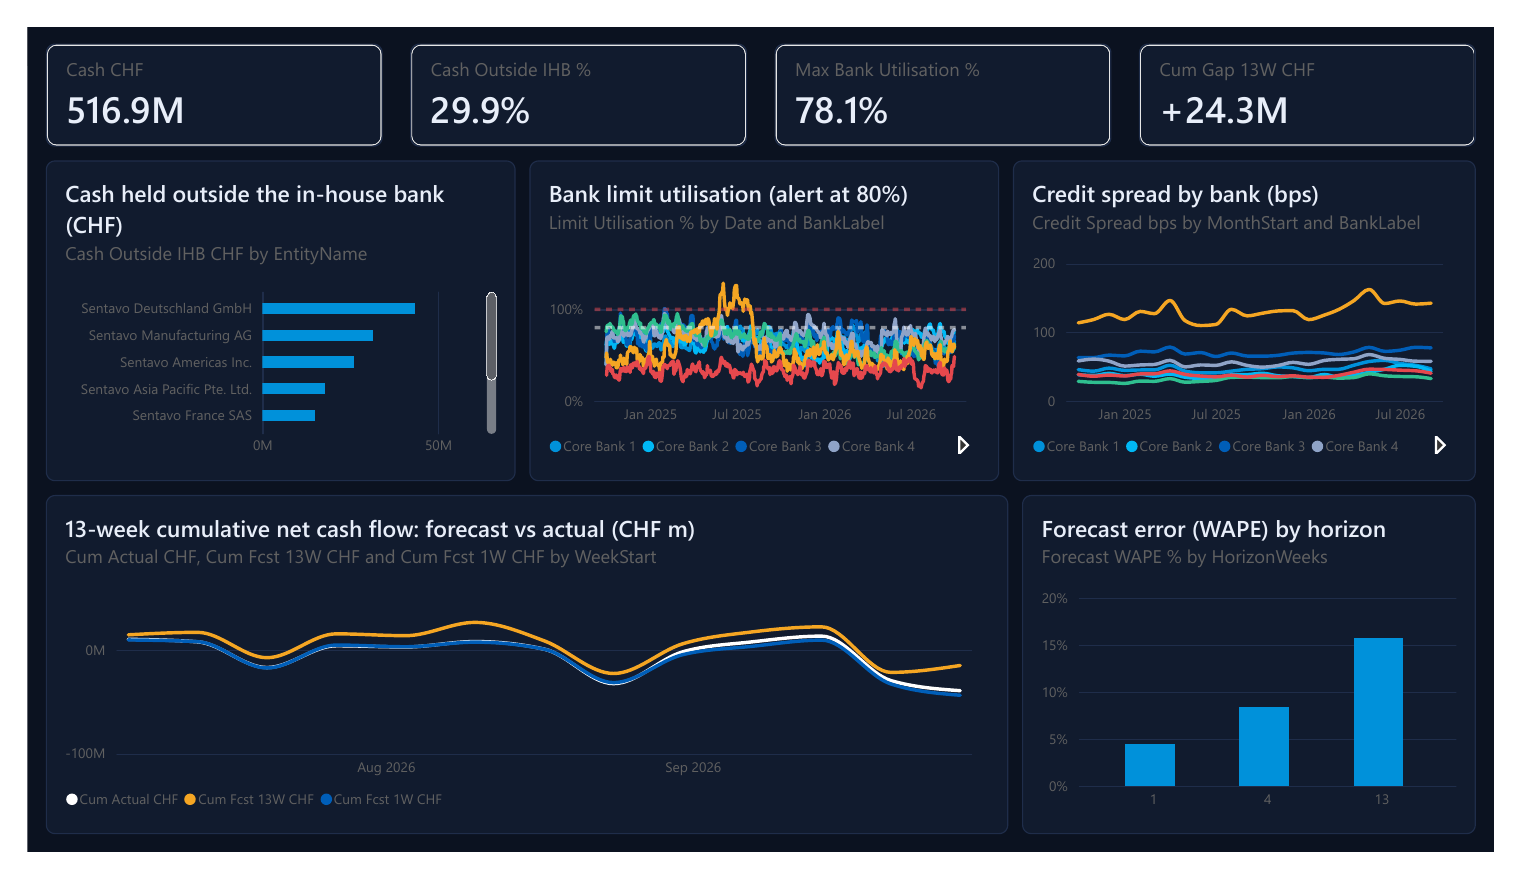

What the dashboard file says about the page in this screenshot:
{"tool":"powerbi","page":{"name":"Treasury Control Tower","canvas":[1280,720],"ordinal":0},"visuals":[{"type":"cardVisual","fields":{"Data":["_Measures.Cash CHF"]},"box":[16,14,294,90],"z":0},{"type":"cardVisual","fields":{"Data":["_Measures.Cash Outside IHB %"]},"box":[334,14,294,90],"z":1},{"type":"cardVisual","fields":{"Data":["_Measures.Max Bank Utilisation %"]},"box":[652,14,294,90],"z":2},{"type":"cardVisual","fields":{"Data":["_Measures.Cum Gap 13W CHF"]},"box":[970,14,294,90],"z":3},{"type":"clusteredBarChart","title":"Cash held outside the in-house bank (CHF)","fields":{"Category":["DimEntity.EntityName"],"Y":["_Measures.Cash Outside IHB CHF"]},"box":[16,116,410,280],"z":4},{"type":"lineChart","title":"Bank limit utilisation (alert at 80%)","fields":{"Category":["Date.Date"],"Series":["DimBank.BankLabel"],"Y":["_Measures.Limit Utilisation %"]},"box":[438,116,410,280],"z":5},{"type":"lineChart","title":"Credit spread by bank (bps)","fields":{"Category":["Date.MonthStart"],"Series":["DimBank.BankLabel"],"Y":["_Measures.Credit Spread bps"]},"box":[860,116,404,280],"z":6},{"type":"lineChart","title":"13-week cumulative net cash flow: forecast vs actual (CHF m)","fields":{"Category":["Date.WeekStart"],"Y":["_Measures.Cum Actual CHF","_Measures.Cum Fcst 13W CHF","_Measures.Cum Fcst 1W CHF"]},"box":[16,408,840,296],"z":7},{"type":"clusteredColumnChart","title":"Forecast error (WAPE) by horizon","fields":{"Category":["FactCashForecast.HorizonWeeks"],"Y":["_Measures.Forecast WAPE %"]},"box":[868,408,396,296],"z":8}]}

Visuals, with their boxes in screenshot pixels (x1, y1, x2, y2), scaled from the page's 1280x720 canvas onto the 1522x880 screenshot:
cardVisual - _Measures.Cash CHF: box=[19, 17, 369, 127]
cardVisual - _Measures.Cash Outside IHB %: box=[397, 17, 747, 127]
cardVisual - _Measures.Max Bank Utilisation %: box=[775, 17, 1125, 127]
cardVisual - _Measures.Cum Gap 13W CHF: box=[1153, 17, 1503, 127]
"Cash held outside the in-house bank (CHF)" clusteredBarChart: box=[19, 142, 507, 484]
"Bank limit utilisation (alert at 80%)" lineChart: box=[521, 142, 1008, 484]
"Credit spread by bank (bps)" lineChart: box=[1023, 142, 1503, 484]
"13-week cumulative net cash flow: forecast vs actual (CHF m)" lineChart: box=[19, 499, 1018, 860]
"Forecast error (WAPE) by horizon" clusteredColumnChart: box=[1032, 499, 1503, 860]
